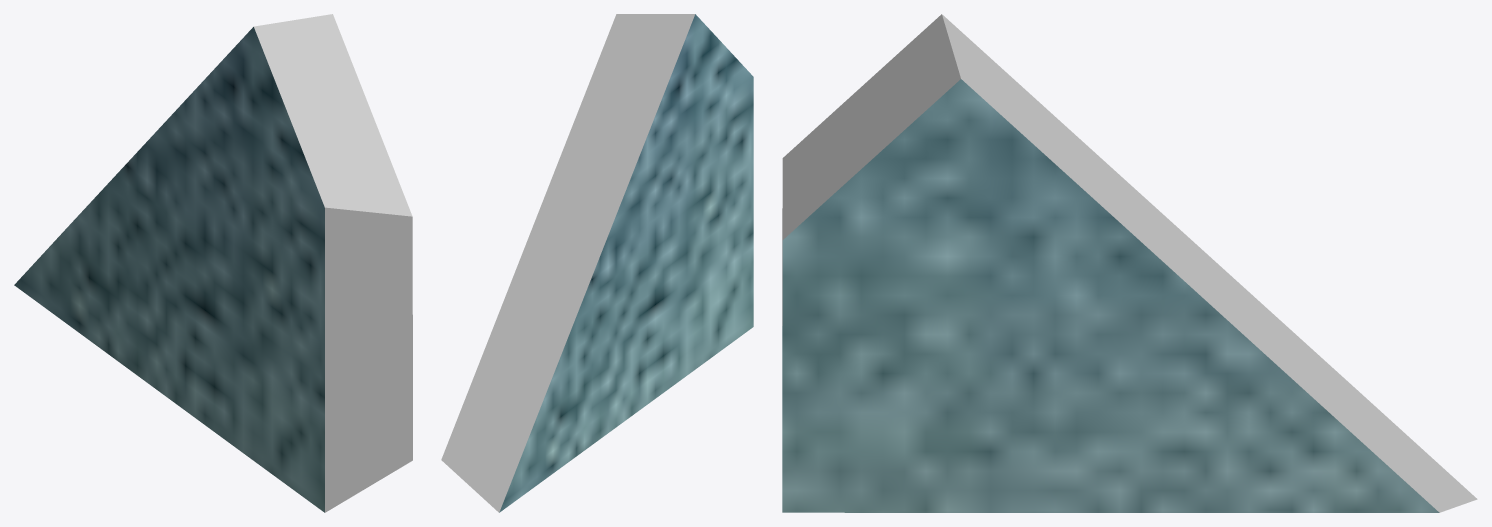
3 views of the same model, side by side, from view 1: azimuth 30°, elevation 25°; view 2: azimuth 150°, elevation 25°; view 3: azimuth 270°, elevation 25° (orthographic). The views are drawn at different scales.
Visible parts, largest first — view 1: Cube_cell.013_Mesh.013; view 2: Cube_cell.013_Mesh.013; view 3: Cube_cell.013_Mesh.013.
Part boxes in pixels (box(x1,y1,x2,y2)): Cube_cell.013_Mesh.013: box(14, 14, 412, 512); Cube_cell.013_Mesh.013: box(441, 14, 753, 512); Cube_cell.013_Mesh.013: box(782, 14, 1477, 512).
Size of the model in its own units: 0.0832 by 0.393 by 0.5101.
